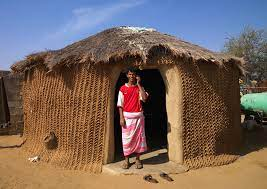Mud House: (17, 30, 244, 170)
